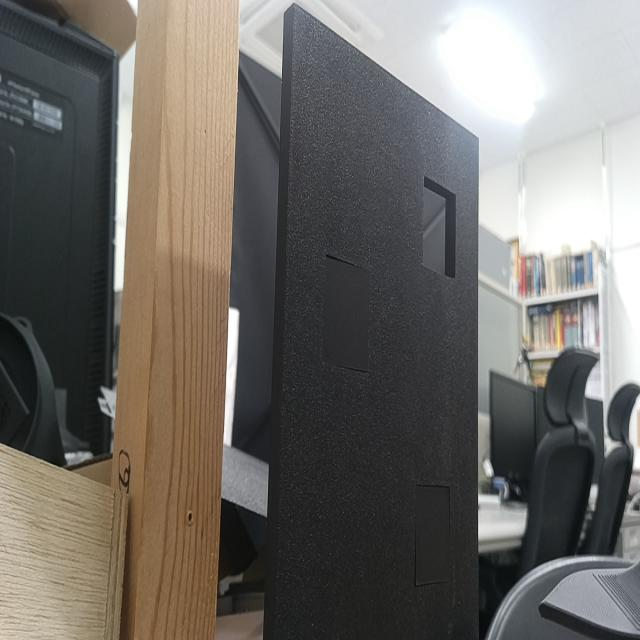Obstacle: (422, 177, 457, 278)
Wall: (278, 2, 480, 639)
